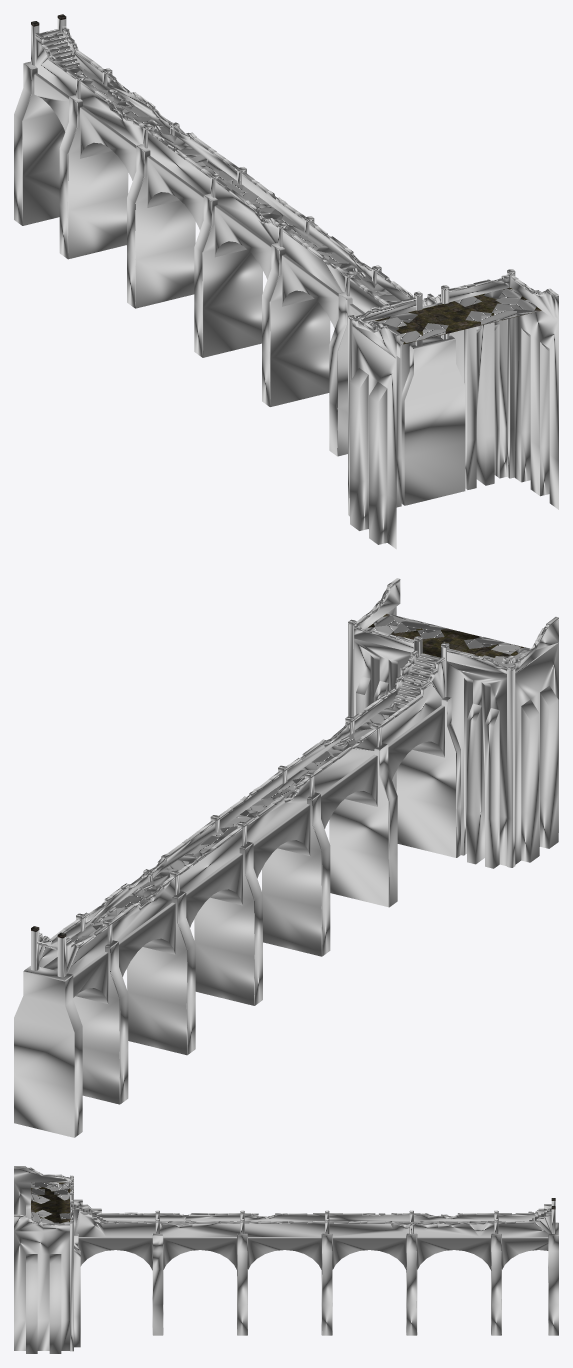
3 views of the same model, one above another, from view 1: azimuth 30°, elevation 25°; view 2: azimuth 150°, elevation 25°; view 3: azimuth 270°, elevation 25° (orthographic). The views are drawn at different scales.
Visible parts, largest first — view 1: mesh0, mesh7, mesh2, mesh5, mesh6, mesh3, mesh1; view 2: mesh0, mesh2, mesh7, mesh5, mesh3, mesh6, mesh1; view 3: mesh0, mesh2, mesh7, mesh3, mesh5.
Part boxes in pixels (x1,y1,x2,y2): mesh0: (14, 18, 558, 549); mesh7: (67, 67, 538, 344); mesh2: (35, 26, 558, 335); mesh5: (375, 288, 541, 344); mesh6: (68, 65, 388, 296); mesh3: (45, 31, 546, 328); mesh1: (39, 29, 442, 308); mesh0: (14, 581, 558, 1137); mesh2: (39, 578, 558, 948); mesh7: (56, 614, 529, 949); mesh5: (368, 614, 524, 657); mesh3: (42, 587, 520, 947); mesh6: (56, 703, 400, 949); mesh1: (36, 653, 440, 949); mesh0: (14, 1167, 558, 1353); mesh2: (14, 1166, 551, 1225); mesh7: (31, 1182, 524, 1229); mesh3: (25, 1175, 546, 1231); mesh5: (31, 1182, 70, 1223).
Size of the model in its own units: 15.47 by 17.65 by 64.4.
